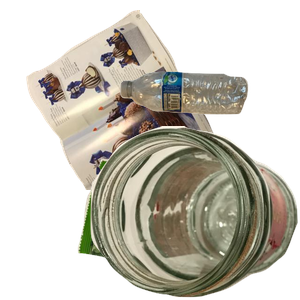glass: (90, 126, 300, 300)
paper: (24, 10, 235, 190)
plastic: (118, 69, 300, 176)
trash: (75, 156, 244, 300)
